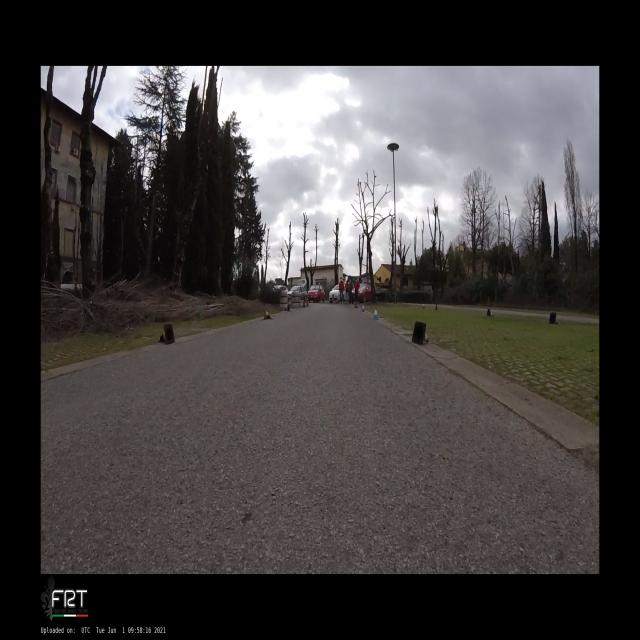blue_cone: (412, 322, 429, 344), (372, 307, 379, 320), (361, 304, 365, 312)
unknown_cone: (549, 312, 558, 325), (486, 309, 494, 316), (285, 306, 290, 311), (435, 304, 437, 310)
yellow_cone: (158, 324, 175, 344), (264, 309, 273, 320)
